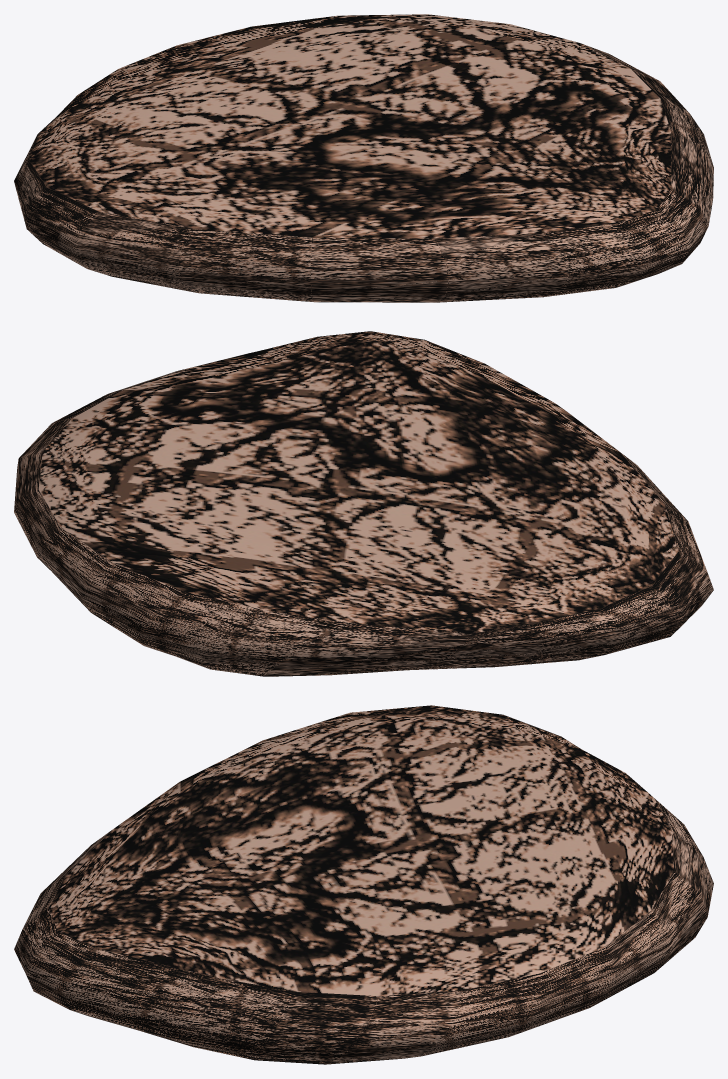
Rendered from stonetile.fbx.
3 renders of one model, top to bottom at view 1: azimuth 30°, elevation 25°; view 2: azimuth 150°, elevation 25°; view 3: azimuth 270°, elevation 25°, orthographic. The views are drawn at different scales.
Parts seen in each view (by area): view 1: stonepath; view 2: stonepath; view 3: stonepath.
Part boxes in pixels (box(x1,y1,x2,y2)): stonepath: box(14, 14, 713, 302); stonepath: box(14, 331, 713, 676); stonepath: box(14, 705, 713, 1064).
Size of the model in its own units: 0.8508 by 0.123 by 0.7843.
